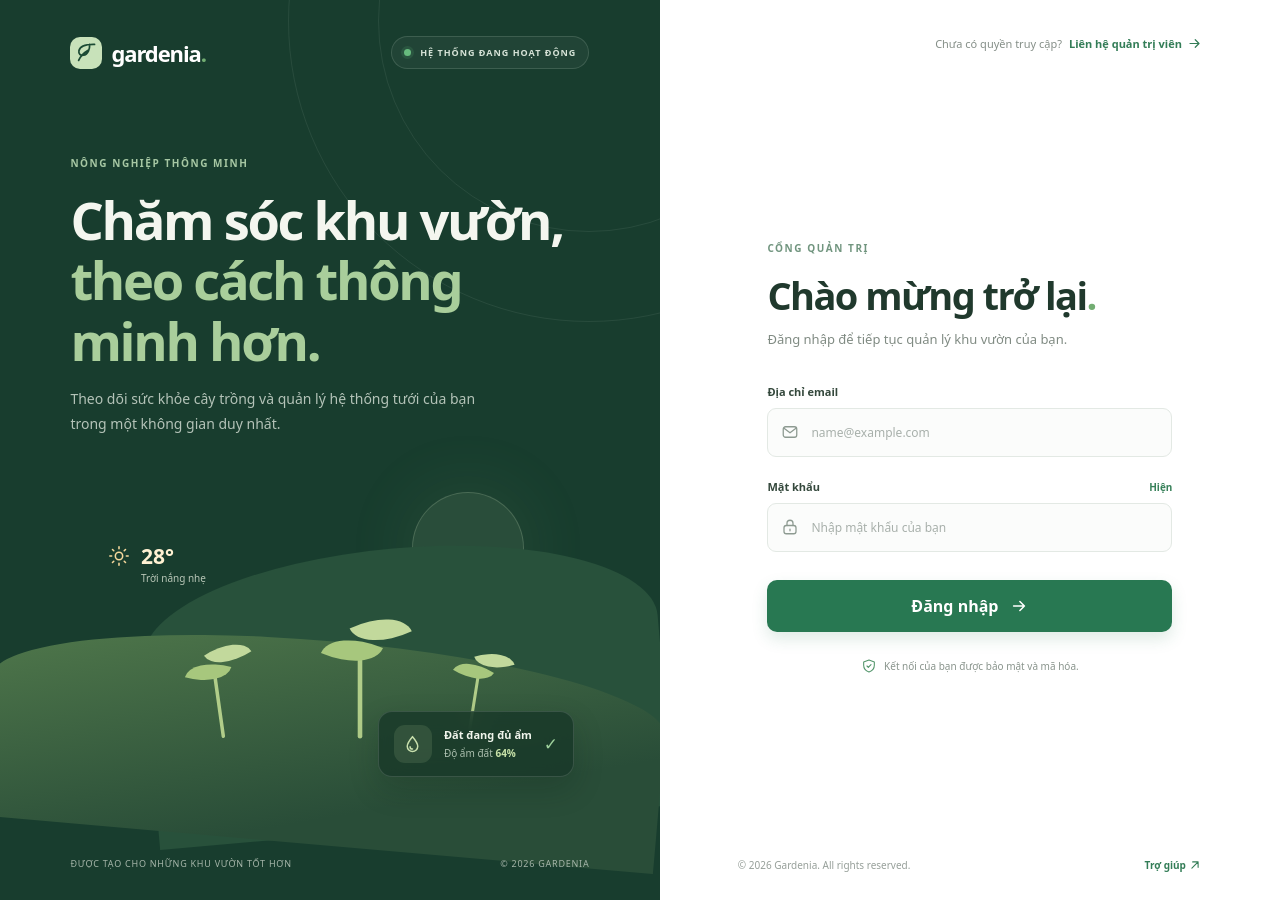
Test case: does not grant dashboard access to a non-admin account
Type "user@example.com" into the field labelled "Địa chỉ email" at (970, 432), box [767,408,1172,456]
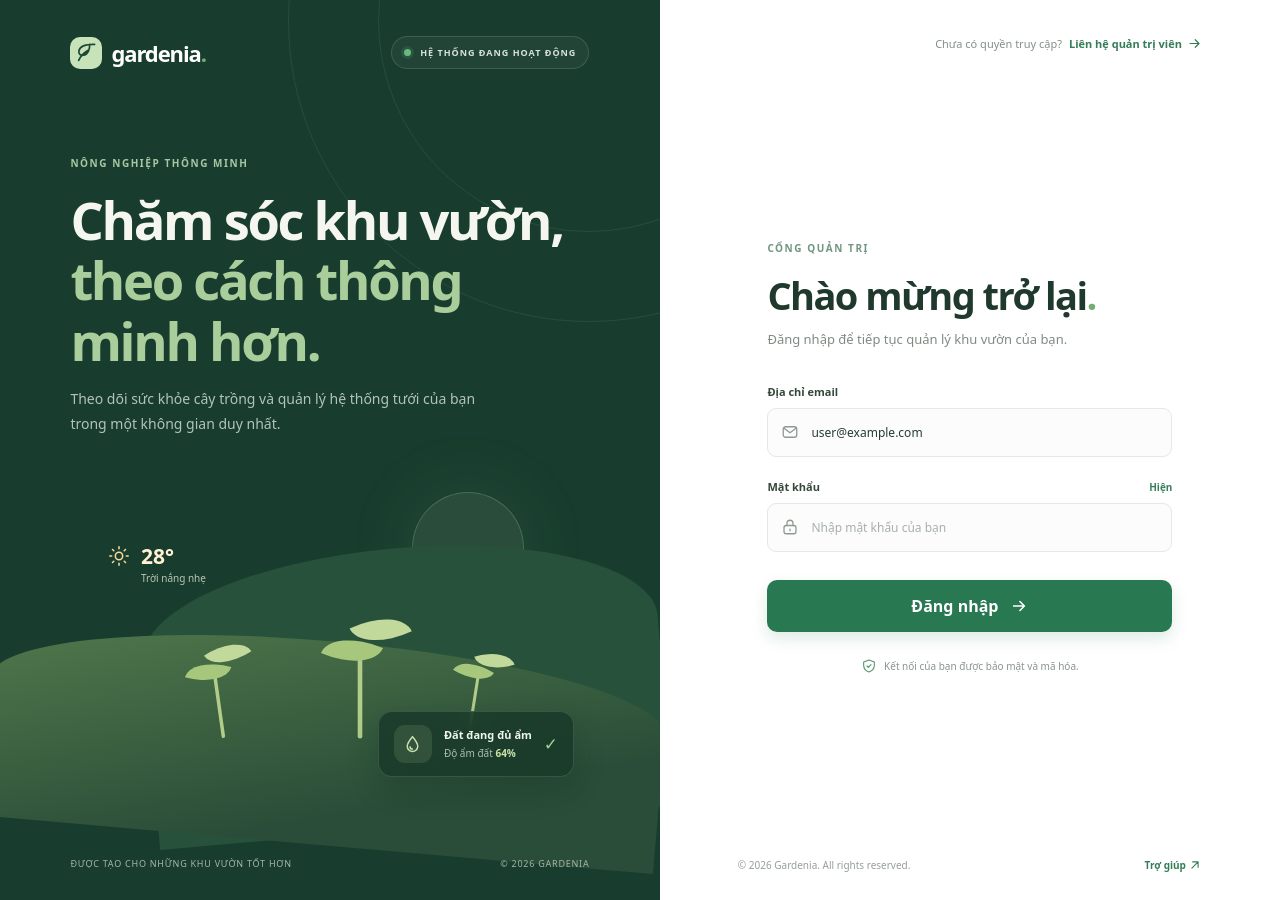
Type "user-password" into the password field labelled "Mật khẩu" at (970, 527), box [767,502,1172,552]
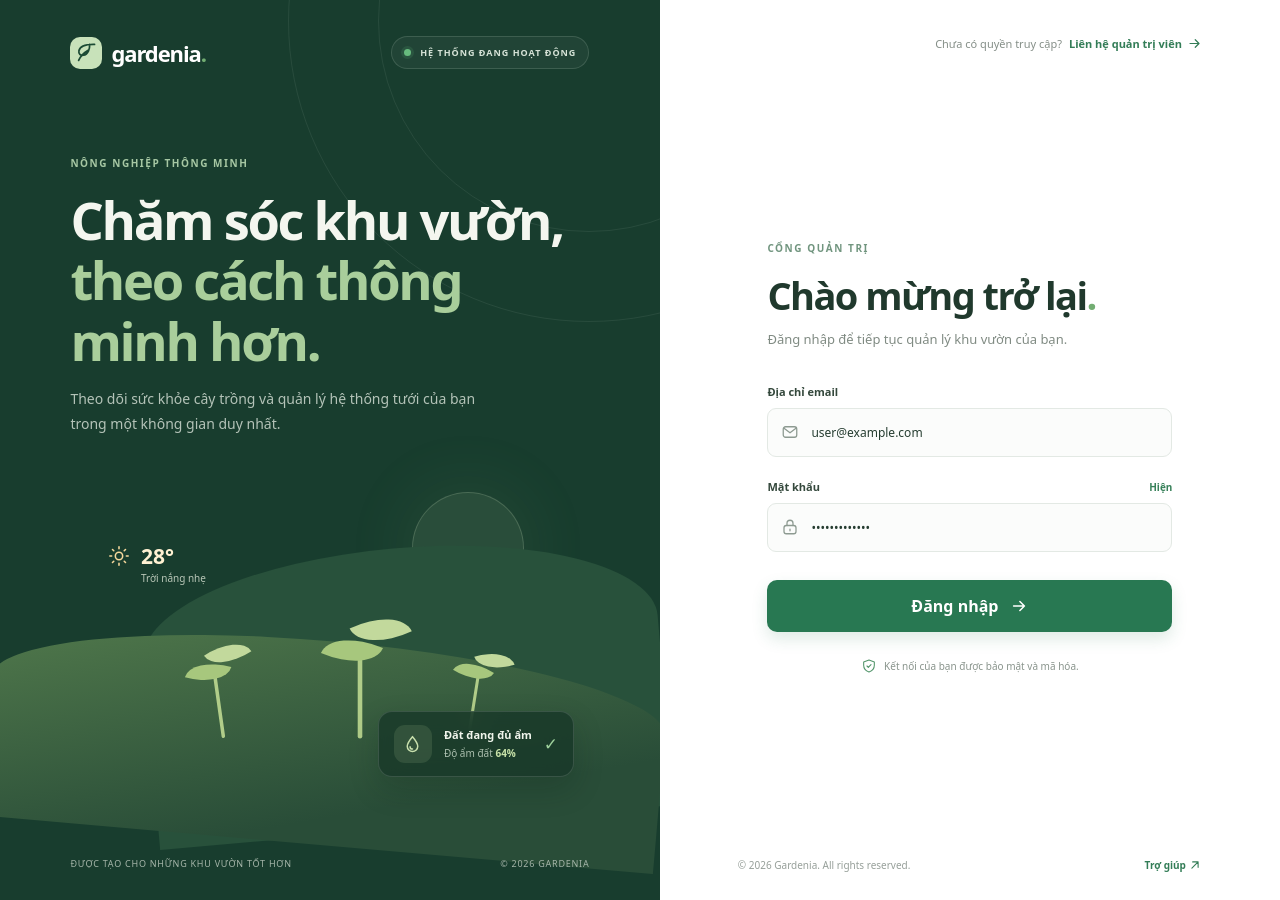
Click the button "Đăng nhập" at (970, 606), box [767,580,1172,632]
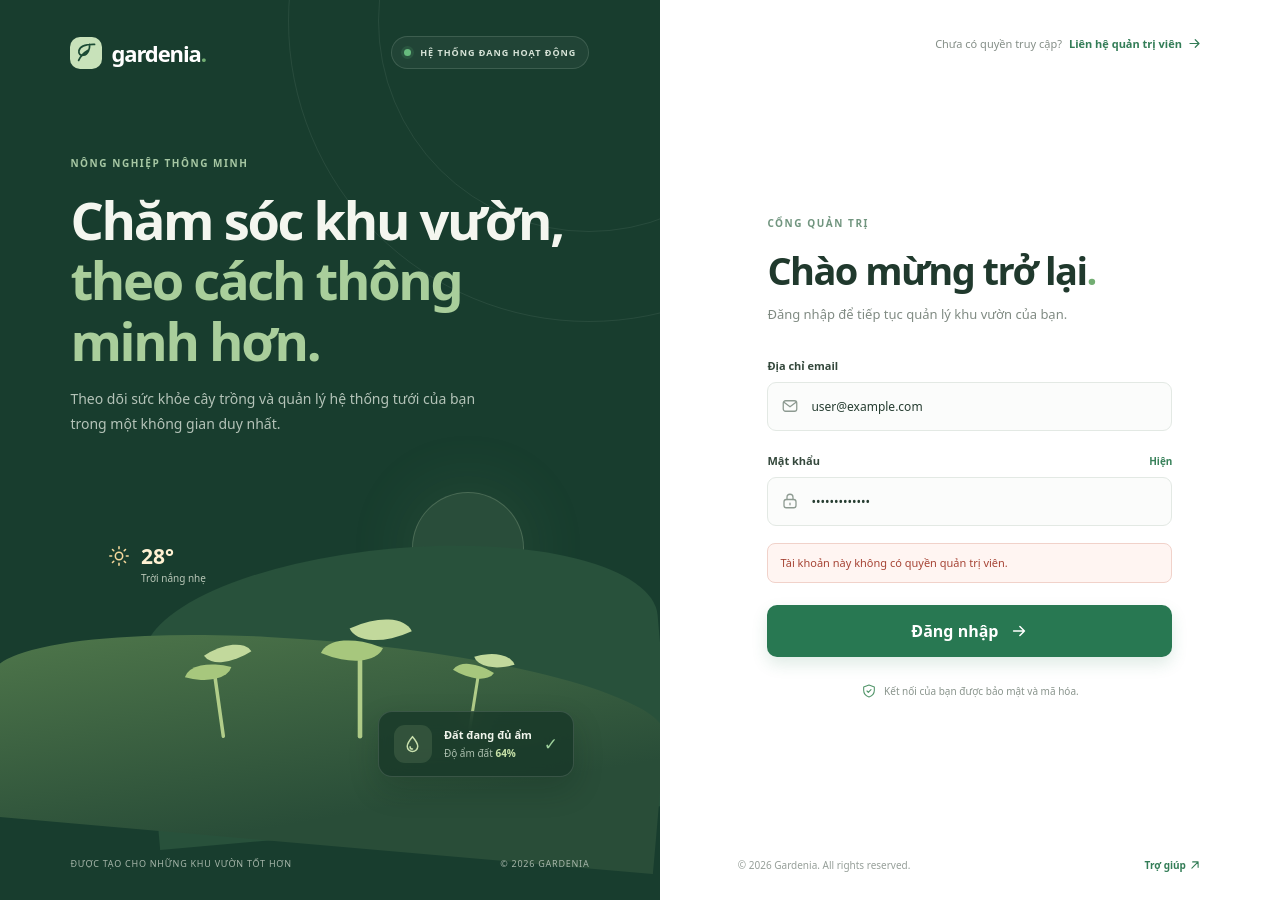
Check: the message shows "không có quyền quản trị viên", box [780,555,1008,570]
